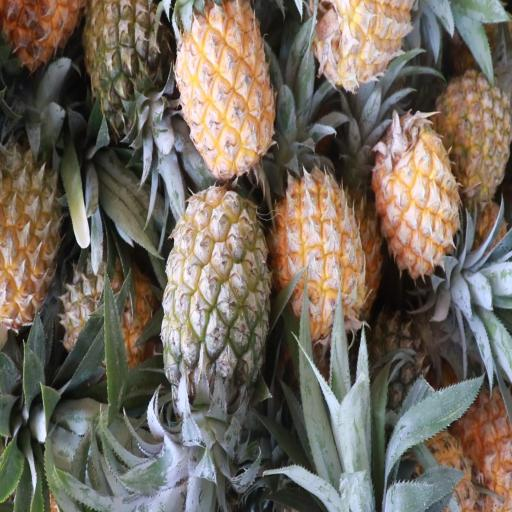------------------------------: (161, 186, 266, 406), (60, 250, 155, 376), (437, 62, 512, 206)
Pineapple - v8 v1: (178, 4, 275, 171), (278, 170, 366, 337), (374, 110, 459, 280), (0, 137, 64, 321)
